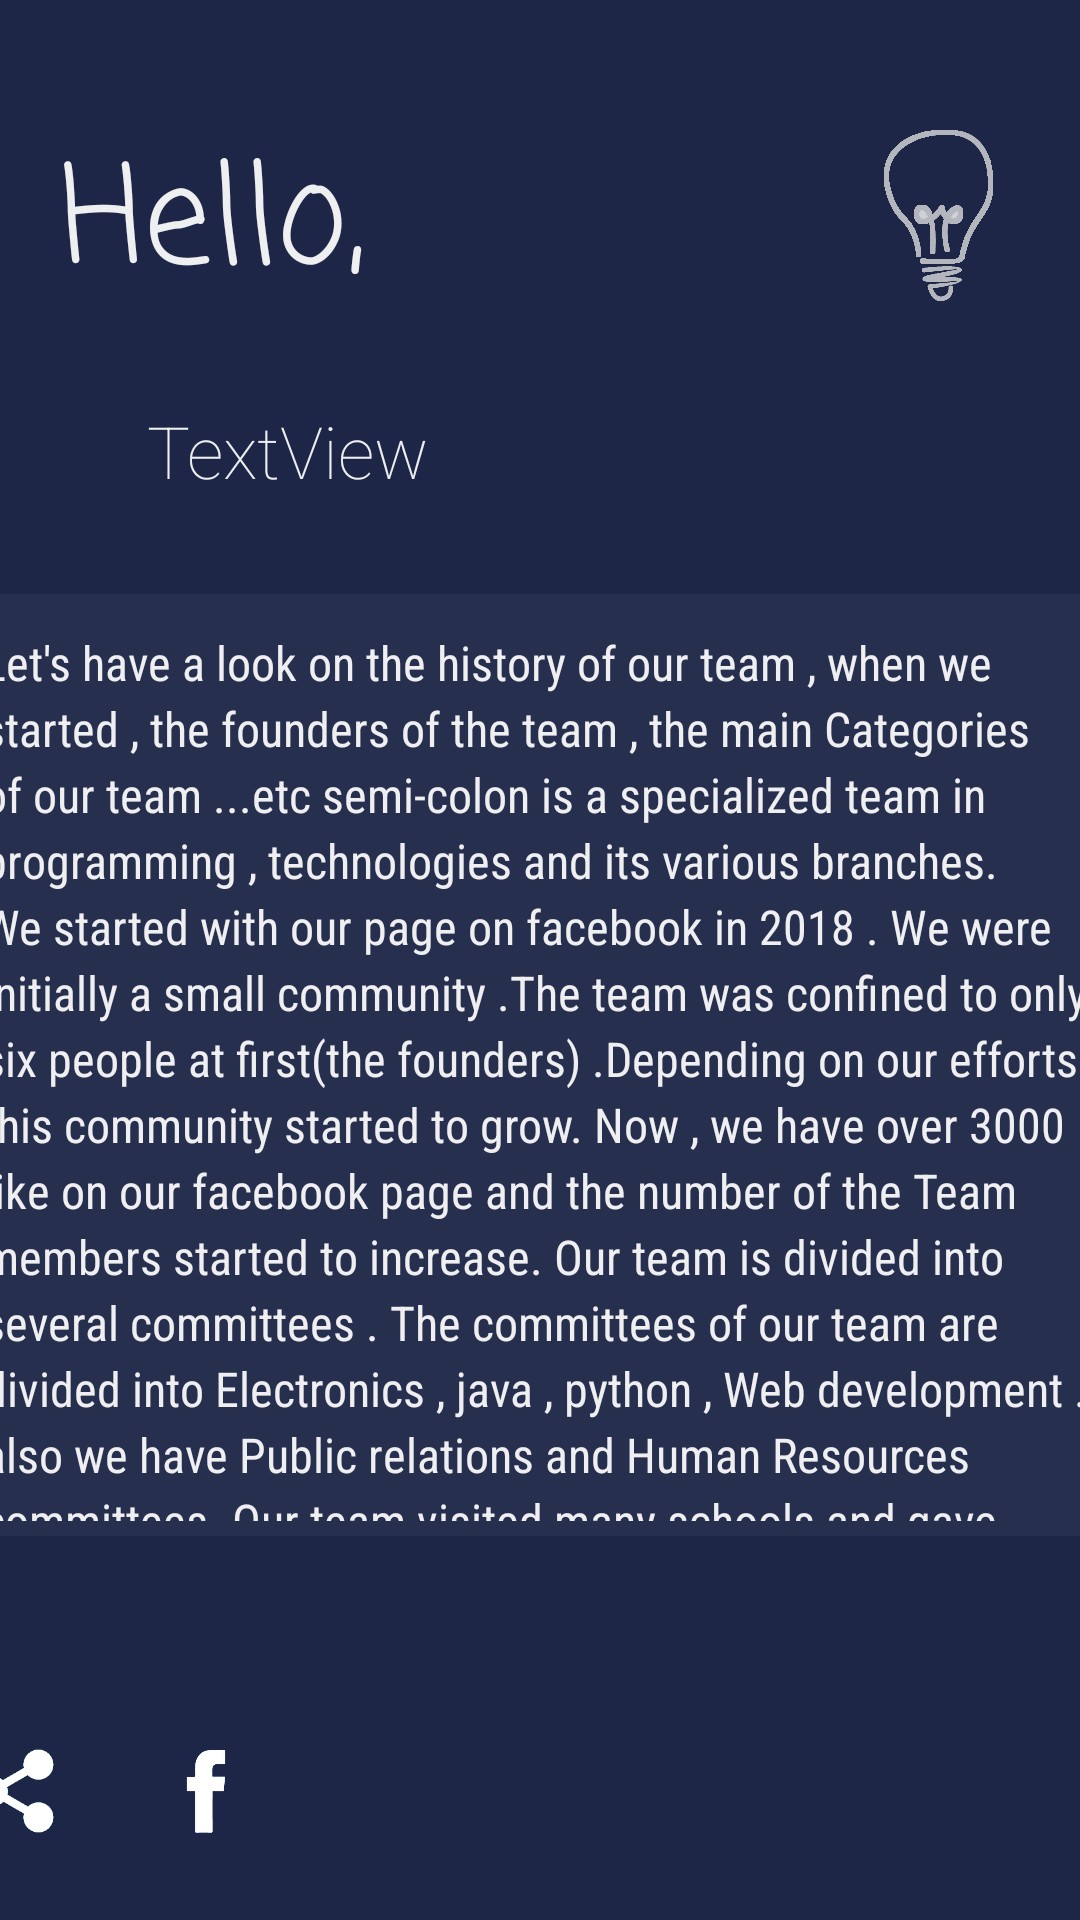

Locate icon controls on the screen. Image size 1080 × 1920, boxes as [x1=x1, y1=y1, x2=x2, y2=y2].
finallamp: [x1=884, y1=130, x2=993, y2=301]
